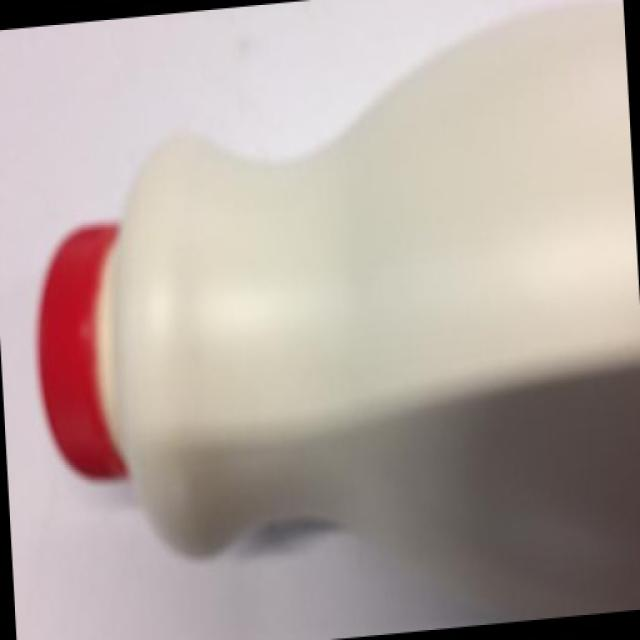plastico: (34, 10, 637, 620)
